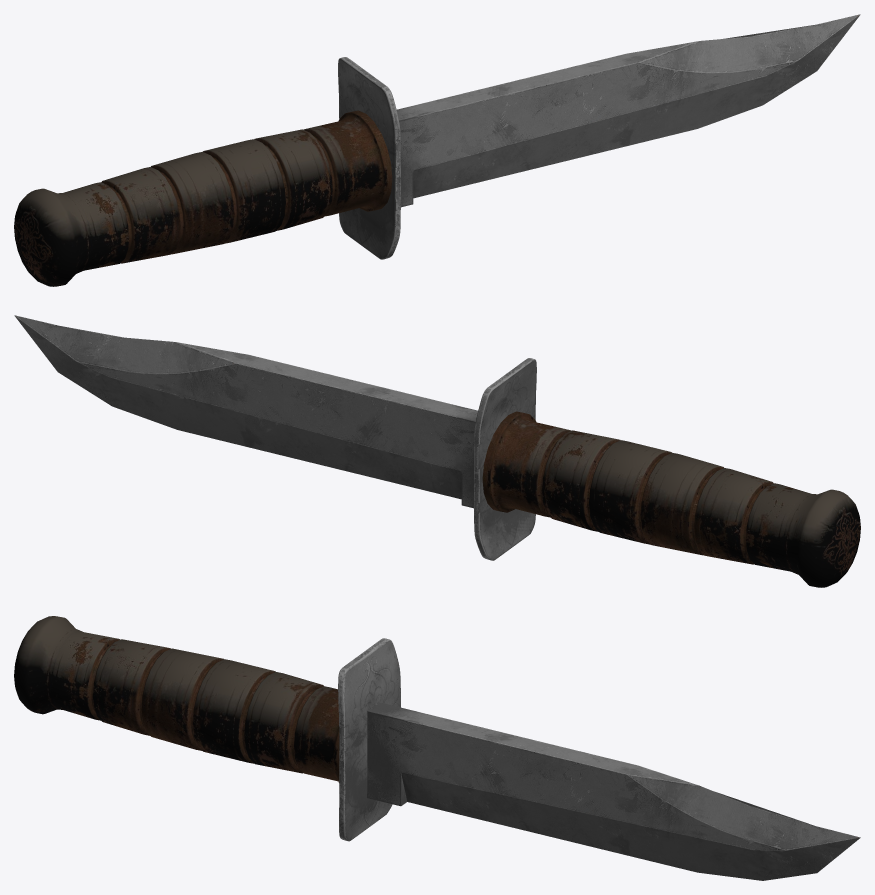
Rendered from knife.glb.
The picture shows the model from 3 angles, top to bottom: view 1: azimuth 30°, elevation 25°; view 2: azimuth 150°, elevation 25°; view 3: azimuth 330°, elevation 25°; orthographic projection.
Visible parts, largest first — view 1: Knife; view 2: Knife; view 3: Knife.
Part boxes in pixels (x1,y1,x2,y2): Knife: (14, 14, 860, 286); Knife: (14, 315, 860, 587); Knife: (14, 616, 860, 880).
Size of the model in its own units: 0.3452 by 0.069 by 0.0407.
1 material, 1 textured.
